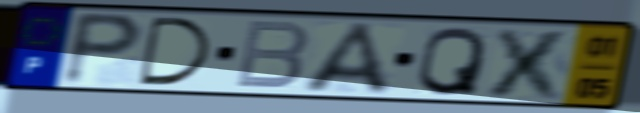A: (298, 20, 396, 97)
B: (231, 18, 312, 91)
D: (136, 14, 215, 88)
P: (57, 9, 148, 88)
Q: (414, 25, 489, 98)
X: (481, 25, 578, 102)
